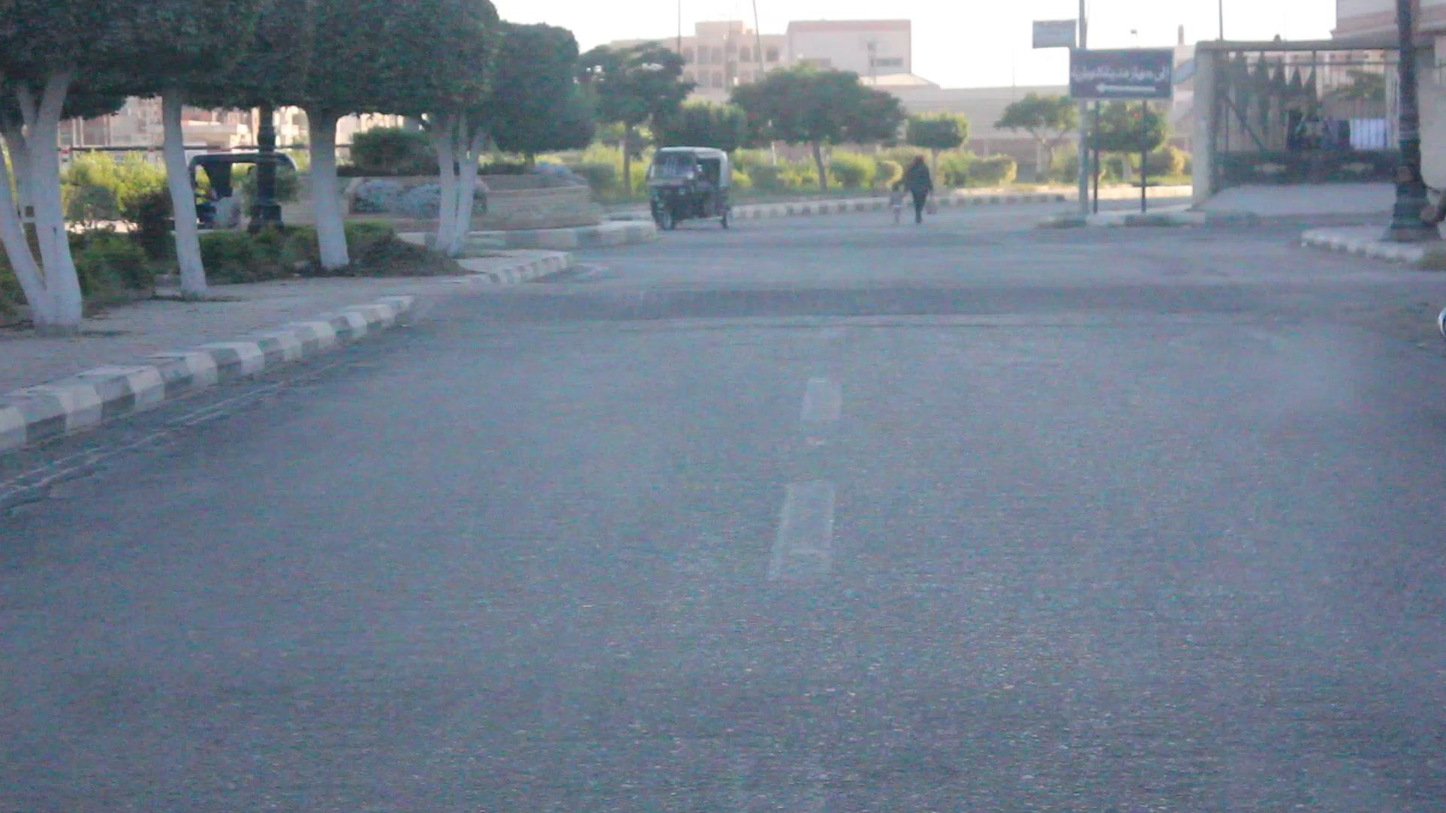Bump: (488, 282, 1442, 324)
